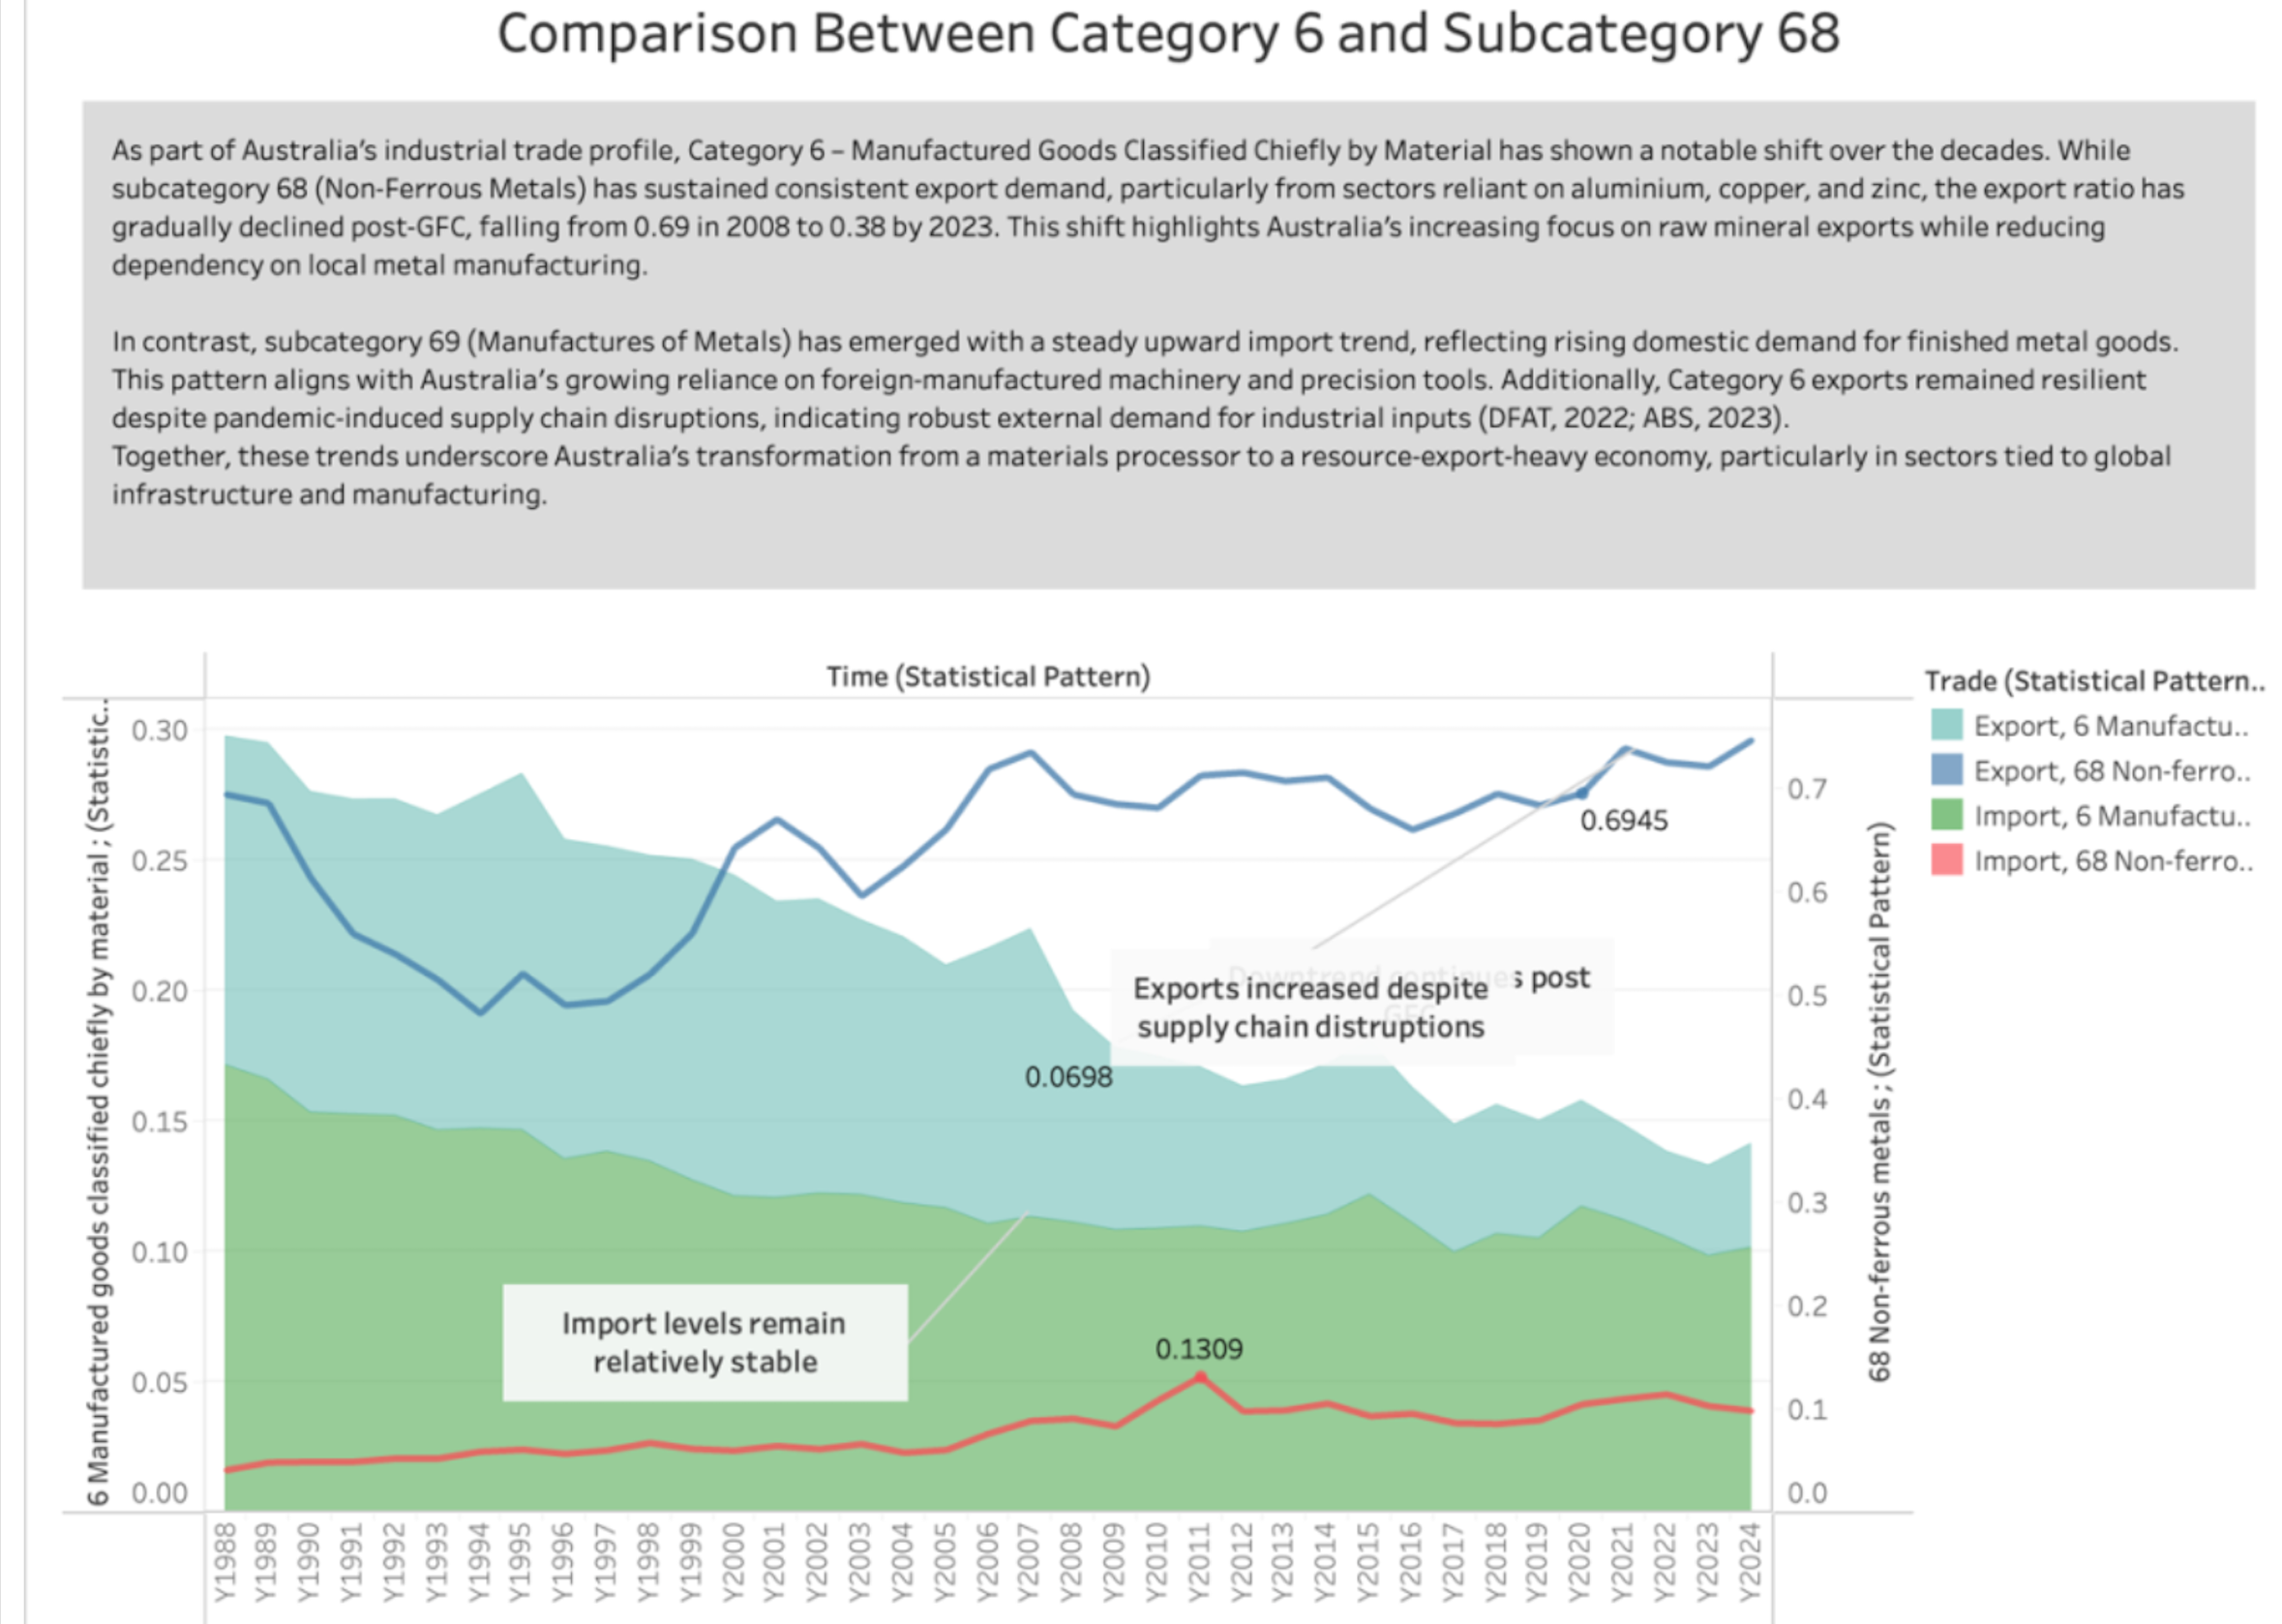

The dashboard page shown, as its layout file describes it:
{"tool":"tableau","page":{"name":"Subcategory 68 and 69","canvas":[1000,800],"ordinal":0},"visuals":[{"type":"worksheet","title":"Analysis of Subcategory 68","mark":"Automatic","rows":["68 Non-ferrous metals ;","68 Non-ferrous metals ; (Raw Dollar)","68 Non-ferrous metals ; (Statistical Pattern)"],"cols":["Time (Statistical Pattern)"],"box":[8,8,412,392]},{"type":"worksheet","title":"Analysis of subcategory 69","mark":"Automatic","rows":["69 Manufactures of metals, nes ;","69 Manufactures of metals, nes ; (Raw Dollar)","69 Manufactures of metals, nes ; (Statistical Pattern)"],"cols":["Time"],"box":[420,8,412,392]},{"type":"legend","title":"Analysis of Subcategory 68","param":"[federated.064senz0qtlmkd191yqc00l86oz8].[none:Trade (Statistical Pattern):nk]","box":[832,8,160,66]},{"type":"legend","title":"Analysis of subcategory 69","param":"[federated.064senz0qtlmkd191yqc00l86oz8].[none:Trade:nk]","box":[832,74,160,66]},{"type":"legend","title":"export and import of subcategory 6 (2)","param":"[federated.064senz0qtlmkd191yqc00l86oz8].[:Measure Names]","box":[832,140,160,206]},{"type":"worksheet","title":"export and import of subcategory 6 (2)","mark":"Line","rows":["Trade (Raw Dollar)"],"cols":["Time (Raw Dollar)"],"box":[8,400,984,392]}]}

Visuals, with their boxes on the page's 1000x800 design canvas (x1, y1, x2, y2). These are canvas units, not pixel positions in the 2282x1624 screenshot, which may show the page scaled, cropped or inside an application window:
"Analysis of Subcategory 68" worksheet: (left=8, top=8, right=420, bottom=400)
"Analysis of subcategory 69" worksheet: (left=420, top=8, right=832, bottom=400)
"Analysis of Subcategory 68" legend: (left=832, top=8, right=992, bottom=74)
"Analysis of subcategory 69" legend: (left=832, top=74, right=992, bottom=140)
"export and import of subcategory 6 (2)" legend: (left=832, top=140, right=992, bottom=346)
"export and import of subcategory 6 (2)" worksheet (Line marks): (left=8, top=400, right=992, bottom=792)
